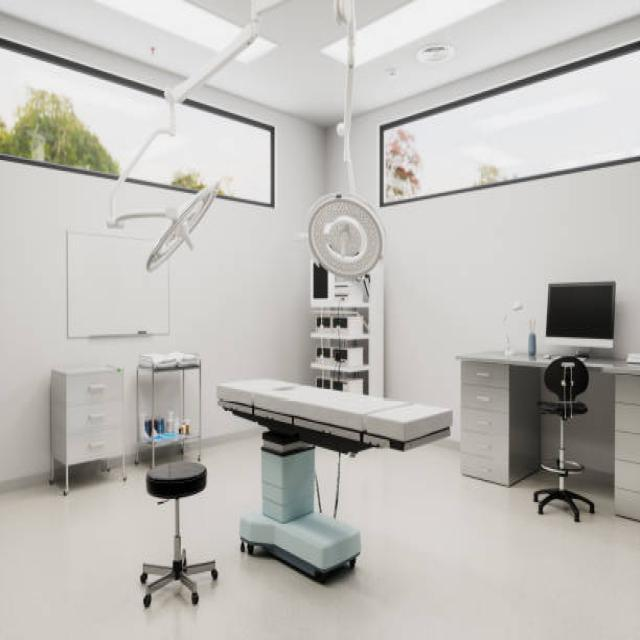Monitor: (533, 267, 626, 366)
bed: (216, 376, 452, 584)
chair: (525, 355, 606, 527)
stool: (125, 441, 226, 621)
tools_table: (33, 359, 135, 503), (129, 343, 211, 482)
